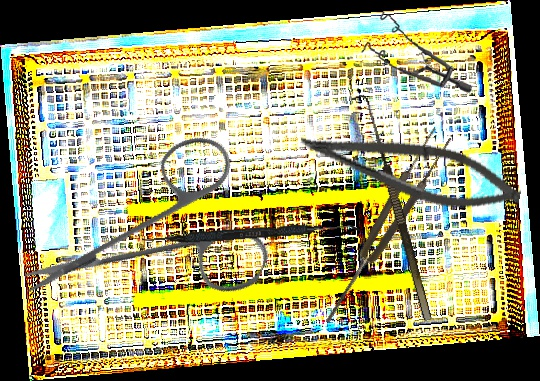Hook Surgical: (350, 92, 433, 325)
Iris Scissors: (19, 91, 304, 378)
Micro Scissor: (293, 120, 527, 221)
Spatula Surgical: (141, 217, 361, 250)
Speculum: (358, 9, 478, 94)
Tissue Forceps: (314, 126, 455, 329)
